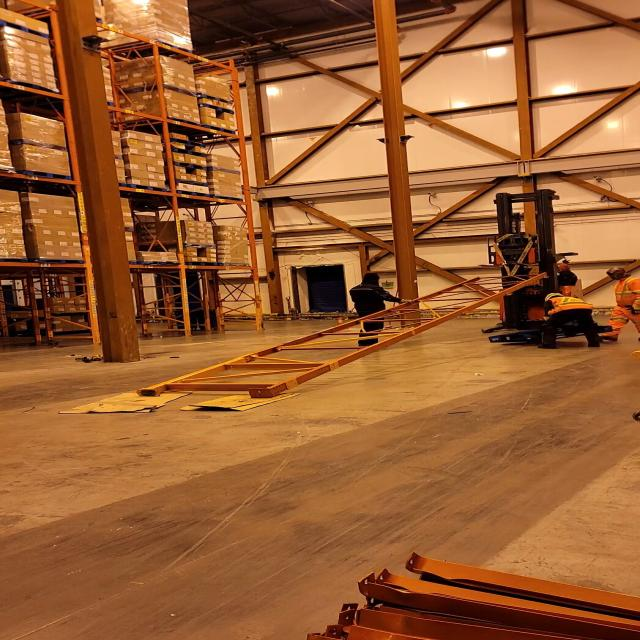forklift: (478, 193, 592, 342)
human: (345, 272, 414, 350), (530, 289, 597, 350), (592, 265, 640, 343), (536, 259, 585, 287)
objectofinterest: (134, 268, 559, 398), (56, 384, 200, 416), (180, 386, 308, 412), (490, 320, 612, 344)
